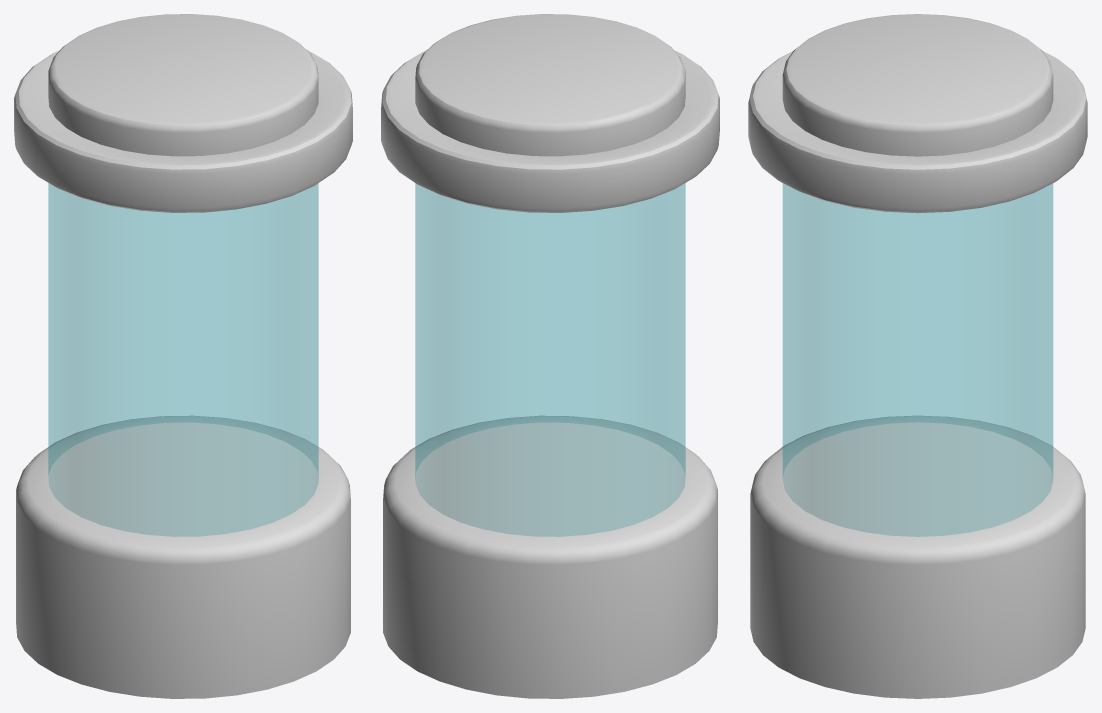
Rendered from researchTube.glb.
The picture shows the model from 3 angles, left to right: view 1: azimuth 30°, elevation 25°; view 2: azimuth 150°, elevation 25°; view 3: azimuth 270°, elevation 25°; orthographic projection.
Parts seen in each view (by area): view 1: ResearchTube; view 2: ResearchTube; view 3: ResearchTube.
Boxes of the visible parts, x1,y1,x2,y2 form: ResearchTube: (14,14,352,698); ResearchTube: (381,14,719,698); ResearchTube: (748,14,1087,698).
Size of the model in its own units: 1.25 by 2.29 by 1.25.
